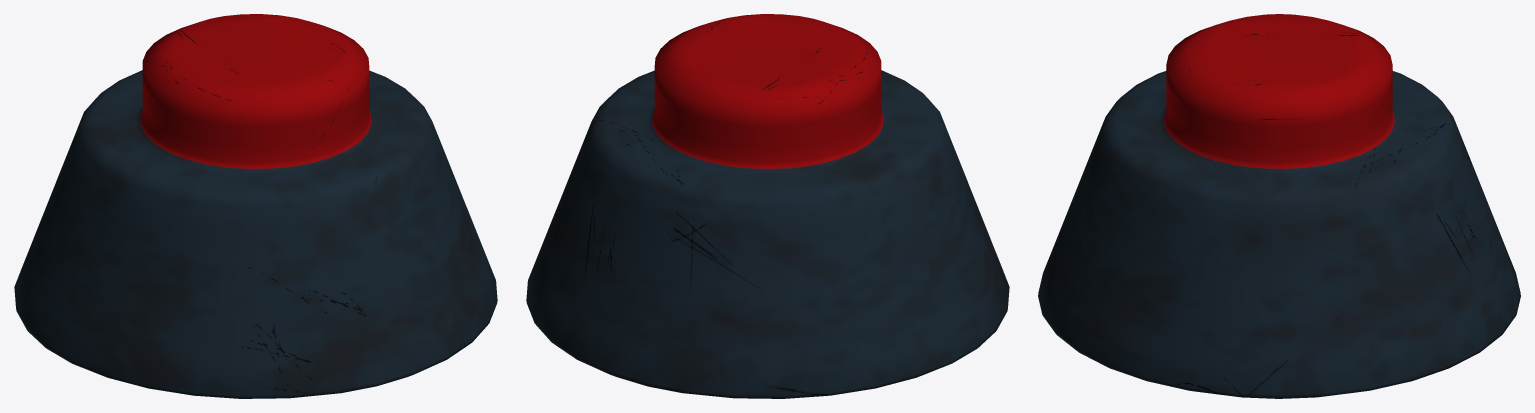
The model's file is Boton.fbx.
The picture shows the model from 3 angles, left to right: view 1: azimuth 30°, elevation 25°; view 2: azimuth 150°, elevation 25°; view 3: azimuth 270°, elevation 25°; orthographic projection.
Parts seen in each view (by area): view 1: Boton; view 2: Boton; view 3: Boton.
Boxes of the visible parts, x1,y1,x2,y2 form: Boton: (14, 14, 497, 398); Boton: (526, 14, 1009, 398); Boton: (1038, 14, 1520, 398).
Bounding box in the file's own units: 324 × 181 × 324.
